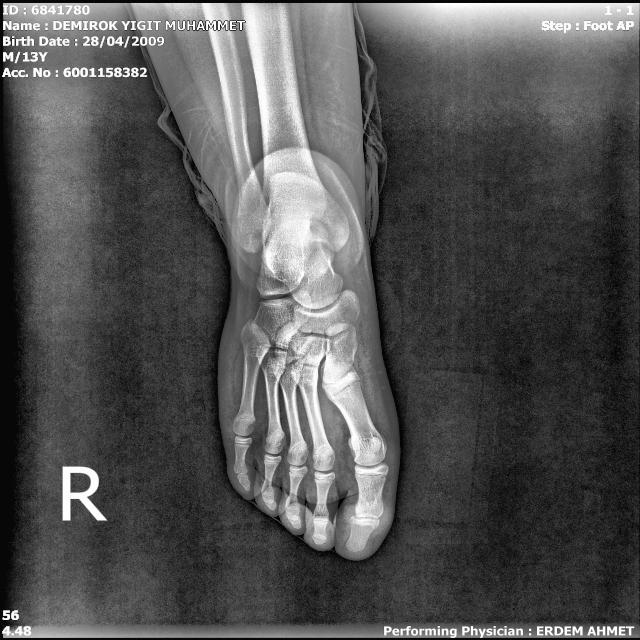Not_Fracture: (117, 0, 411, 569)
